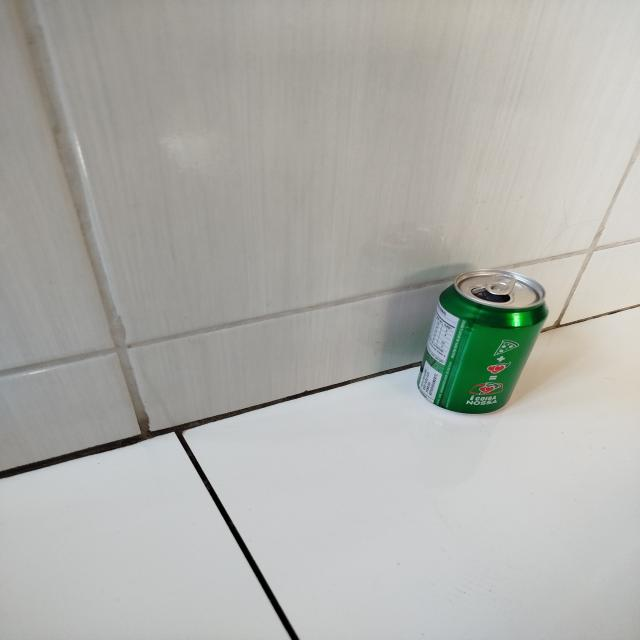Guarana: (421, 269, 546, 414)
